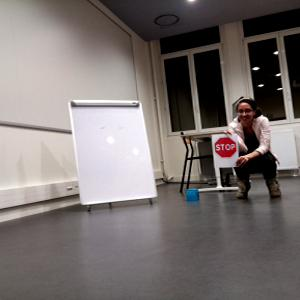big: (68, 98, 158, 204)
small: (183, 188, 200, 202)
